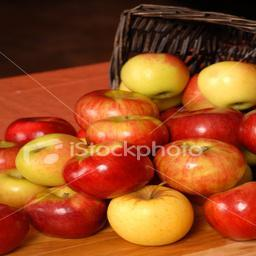apple: (106, 181, 194, 246), (154, 138, 247, 193), (63, 143, 152, 197), (24, 186, 107, 239), (15, 132, 88, 185), (86, 114, 169, 152), (120, 51, 190, 96), (203, 182, 256, 241), (197, 59, 255, 111), (162, 107, 243, 143), (1, 202, 31, 253), (181, 73, 216, 112)
